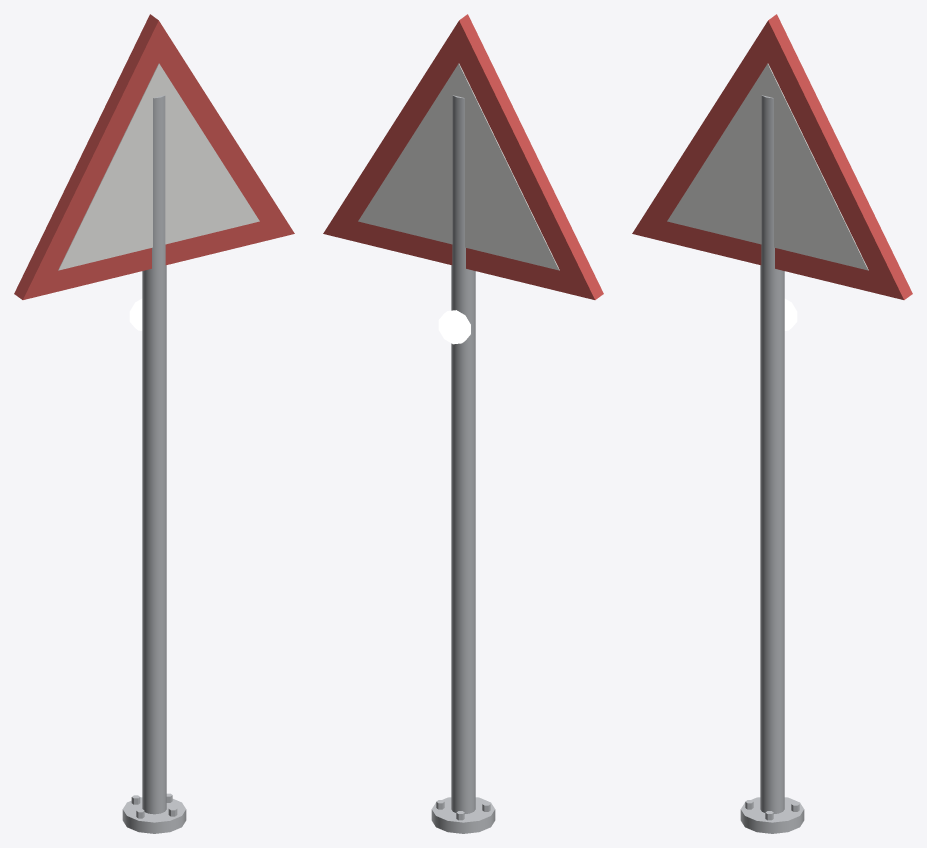
File: th39_vorfahrt.glb
3 renders of one model, left to right at view 1: azimuth 30°, elevation 25°; view 2: azimuth 150°, elevation 25°; view 3: azimuth 330°, elevation 25°, orthographic.
Visible parts, largest first — view 1: Cone, Cone.001, Cylinder, Cylinder.001; view 2: Cone, Cone.001, Cylinder, Cylinder.001, Cylinder.006; view 3: Cone, Cone.001, Cylinder, Cylinder.001.
Boxes of the visible parts, box(x1,y1,x2,y2) form: Cone: box(14, 14, 294, 299); Cone.001: box(58, 63, 259, 270); Cylinder: box(142, 95, 166, 814); Cylinder.001: box(122, 797, 186, 833); Cone: box(323, 14, 603, 299); Cone.001: box(358, 63, 559, 270); Cylinder: box(451, 95, 475, 813); Cylinder.001: box(431, 797, 495, 833); Cylinder.006: box(438, 310, 470, 344); Cone: box(632, 14, 912, 299); Cone.001: box(667, 63, 868, 270); Cylinder: box(760, 95, 784, 813); Cylinder.001: box(740, 797, 804, 833).
Bounding box in the file's own units: 0.9007 × 2.54 × 0.182.
